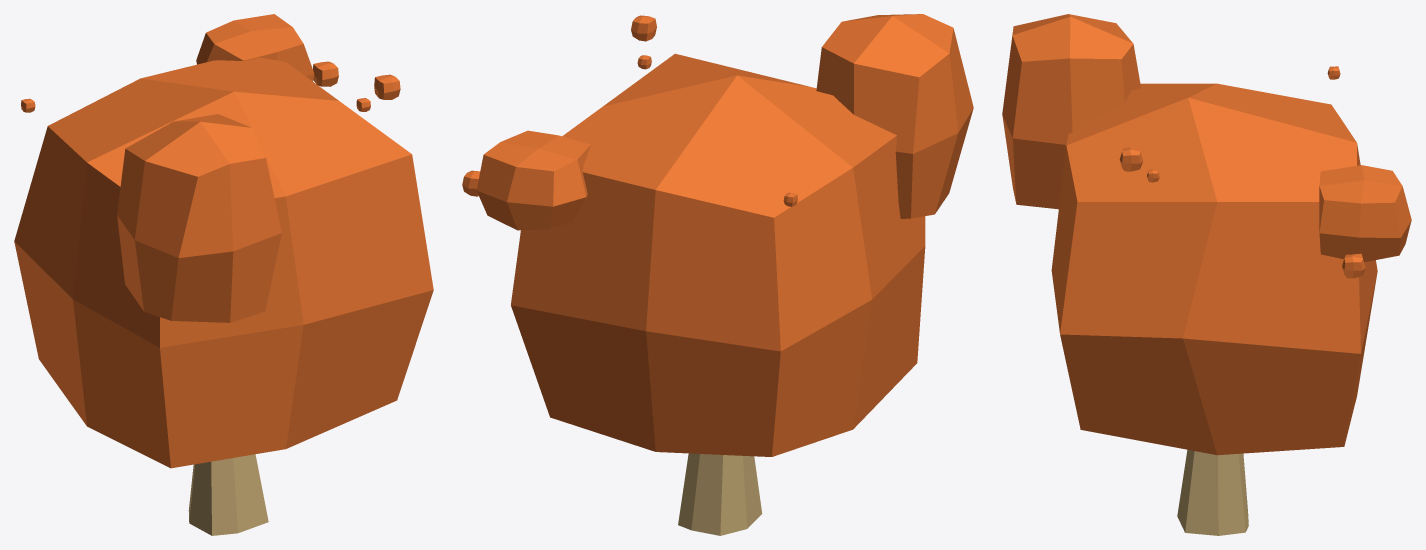
Rendered from treeNew.gltf.
3 renders of one model, left to right at view 1: azimuth 30°, elevation 25°; view 2: azimuth 150°, elevation 25°; view 3: azimuth 270°, elevation 25°, orthographic. The views are drawn at different scales.
Parts seen in each view (by area): view 1: Cube; view 2: Cube; view 3: Cube.
Boxes of the visible parts, left/top/right/bottom form: Cube: left=14, top=14, right=433, bottom=535; Cube: left=462, top=14, right=973, bottom=535; Cube: left=1002, top=14, right=1411, bottom=535.
Size of the model in its own units: 6.72 by 8.83 by 7.15.
